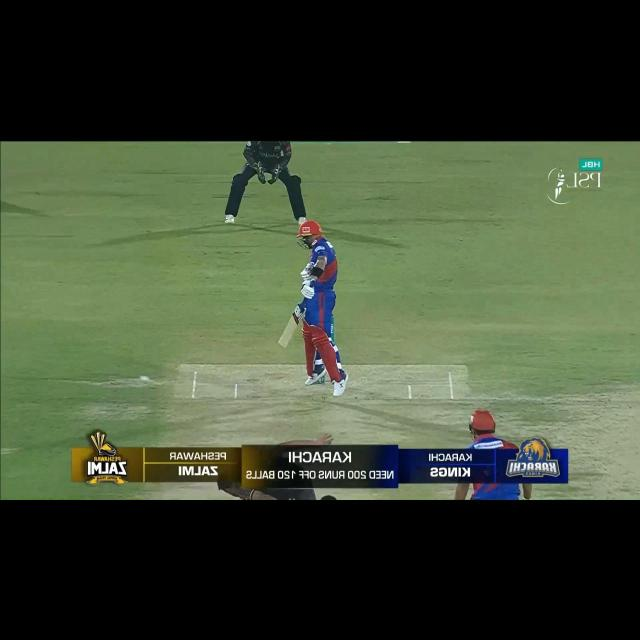bat: (280, 304, 309, 348)
toe: (278, 338, 288, 348)
